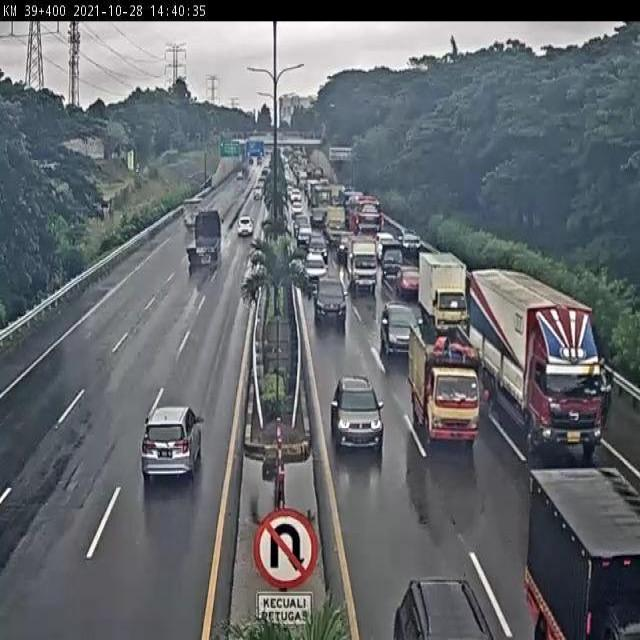big truck: (188, 213, 223, 270)
car: (141, 406, 201, 478), (332, 377, 383, 452), (381, 299, 424, 356), (314, 278, 348, 326), (302, 253, 330, 292), (396, 262, 422, 298), (382, 240, 405, 279), (234, 215, 259, 241)
small truck: (529, 466, 640, 638), (181, 196, 204, 232)
truck-l-: (470, 264, 604, 453)
truck-m-: (412, 327, 480, 448), (417, 250, 471, 330)
truck-s-: (348, 234, 381, 290)
